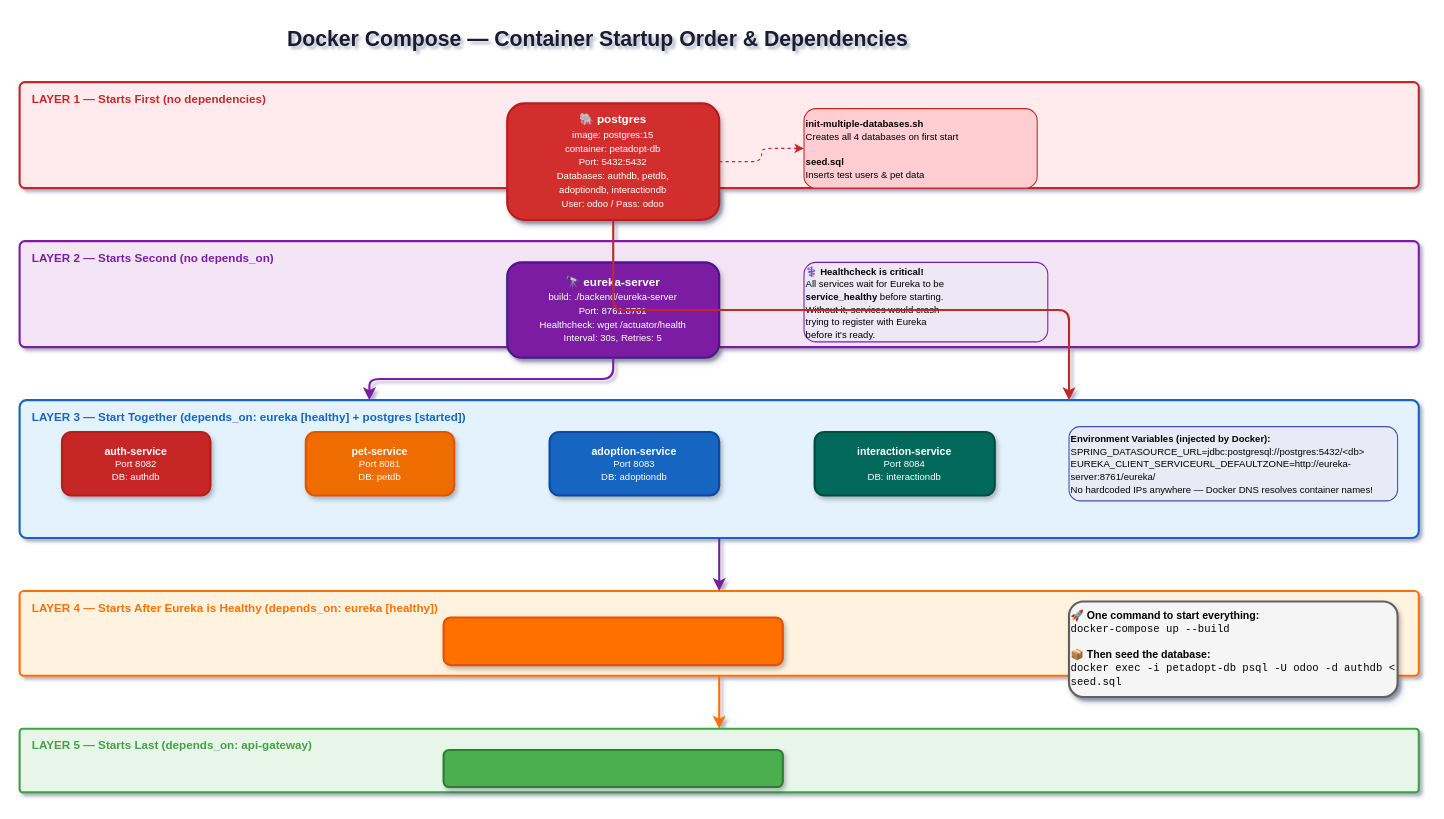
Image size: 1444x819. Some labels were removed from this diagram. The shapes that lost their labels are listed below. From the top down, each one's centre as x and y in pixels, then its label:
At point 614,642: "api-gateway Port 8080:8080 — Single entry point for React".
At point 614,769: "petadopt-frontend Port 3000:80 — Nginx serves built React app".
